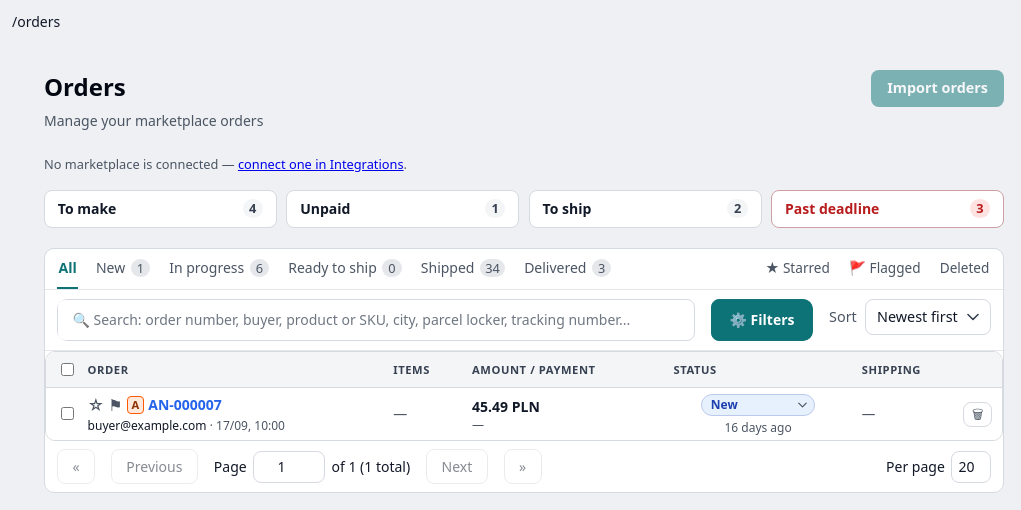
it: the work queues above the list › opens a queue with the most urgent orders first
The image size is (1021, 510).
Click the button "To ship 2". click: (645, 209)
box: [529,190,762,228]
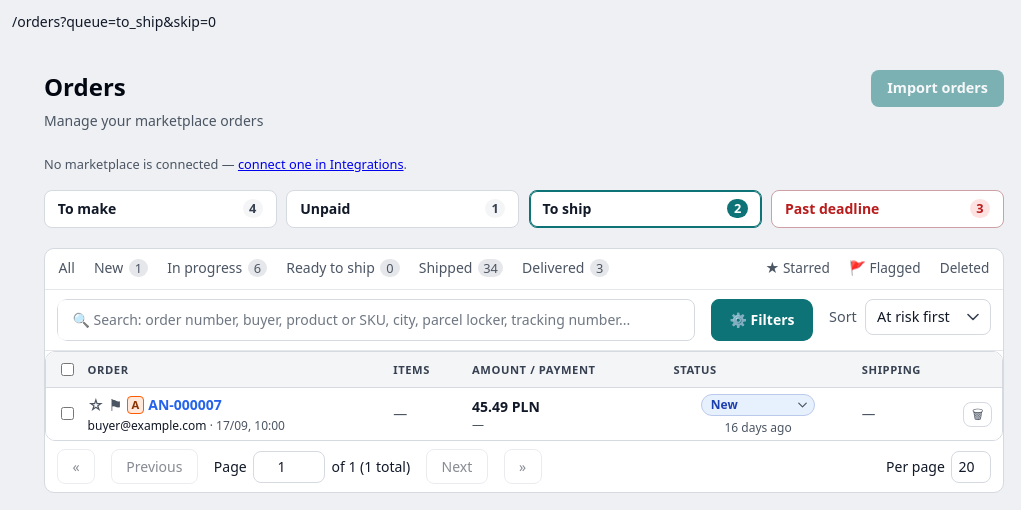
Check: the dropdown labelled "Sort" shows "At risk first", box [865,299,991,335]
